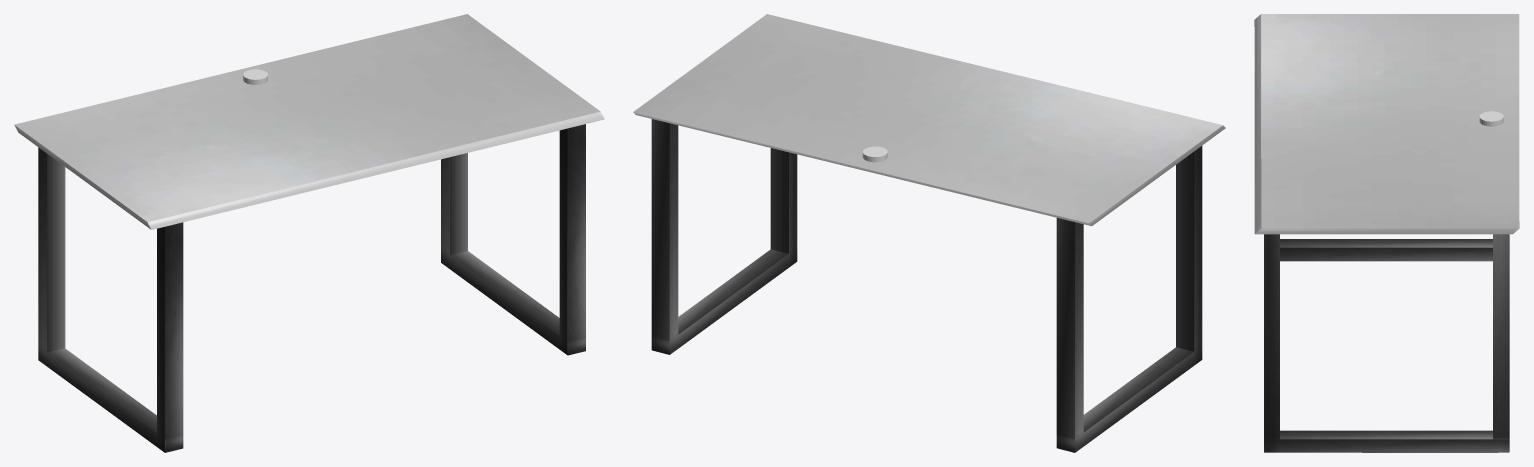
File: mesa FINAL .fbx
The picture shows the model from 3 angles, left to right: view 1: azimuth 30°, elevation 25°; view 2: azimuth 150°, elevation 25°; view 3: azimuth 270°, elevation 25°; orthographic projection. The views are drawn at different scales.
Parts seen in each view (by area): view 1: Cube; view 2: Cube; view 3: Cube, Cylinder.
Part boxes in pixels (x1,y1,x2,y2): Cube: (14, 14, 604, 452); Cube: (633, 14, 1225, 452); Cube: (1254, 14, 1519, 452); Cylinder: (1479, 111, 1503, 126).
Size of the model in its own units: 126 by 64.63 by 65.87.
2 materials, 2 textured.
